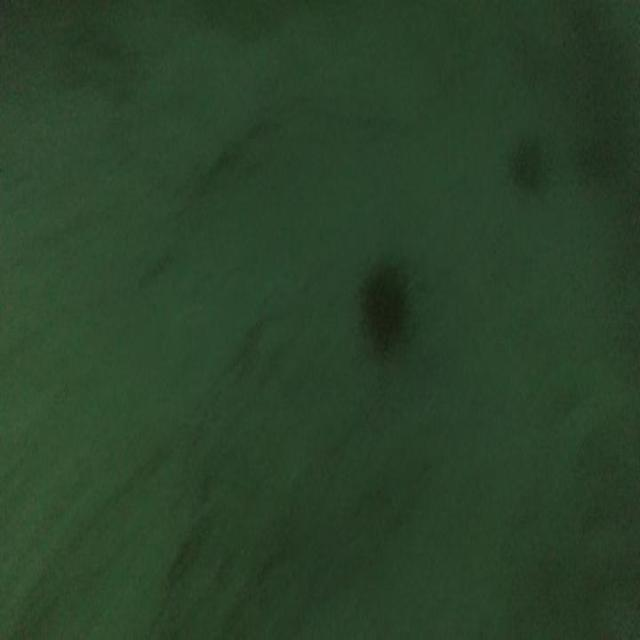echinus: (352, 246, 415, 364)
